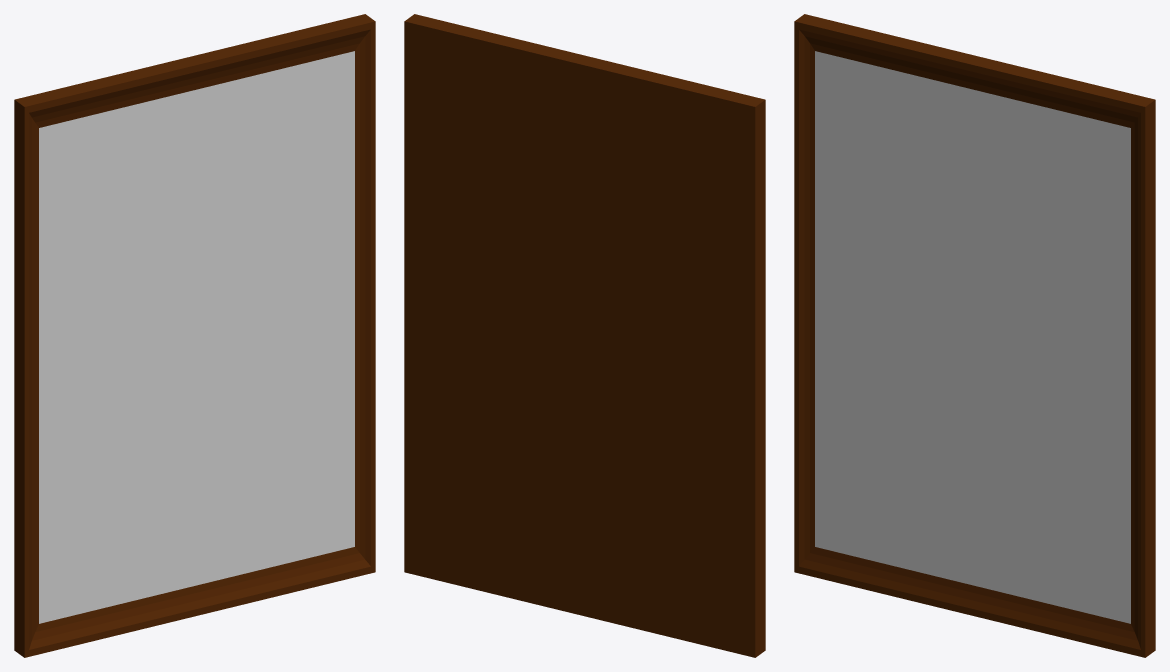
The model's file is _ablo.fbx.
3 renders of one model, left to right at view 1: azimuth 30°, elevation 25°; view 2: azimuth 150°, elevation 25°; view 3: azimuth 330°, elevation 25°, orthographic.
Parts seen in each view (by area): view 1: Plane, Cube; view 2: Cube; view 3: Plane, Cube.
Part boxes in pixels (x1,y1,x2,y2): Plane: [39, 51, 354, 623]; Cube: [14, 14, 375, 657]; Cube: [404, 14, 765, 657]; Plane: [815, 51, 1130, 623]; Cube: [794, 14, 1155, 657].
Size of the model in its own units: 400 by 600 by 20.
